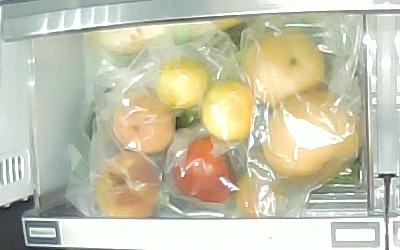peach_vinyl: (94, 153, 160, 217), (112, 93, 175, 155)
pear_vinyl: (259, 89, 361, 186), (243, 28, 326, 107)
tangerine_vinyl: (202, 78, 257, 142), (157, 57, 210, 109)
tomato_vinyl: (171, 133, 240, 205), (236, 169, 289, 217)
